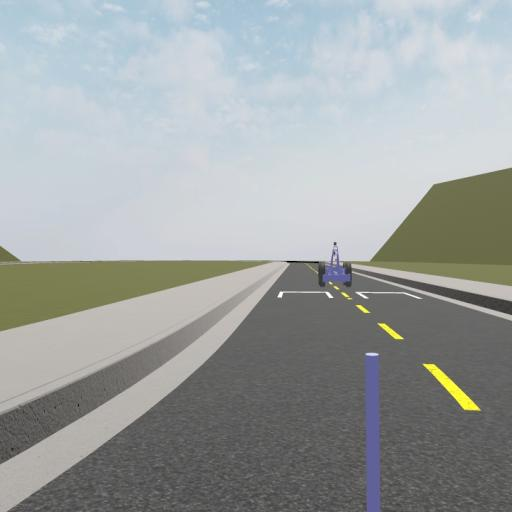ERP-42: (319, 244, 352, 286)
